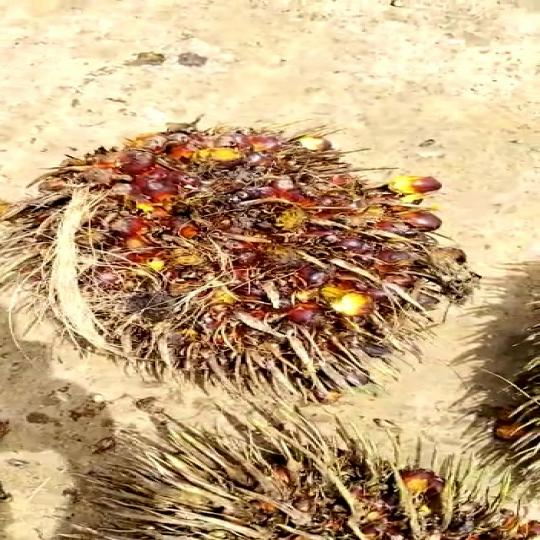terlalu masak: (0, 120, 497, 422)
